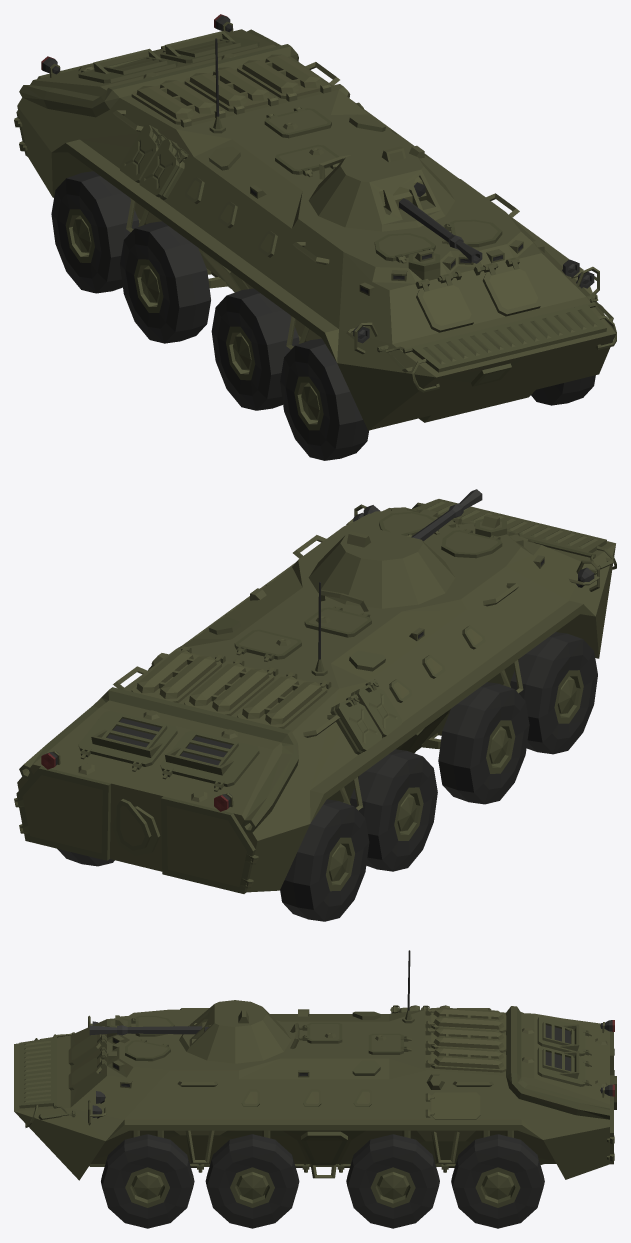
File: btr.glb
3 renders of one model, top to bottom at view 1: azimuth 30°, elevation 25°; view 2: azimuth 150°, elevation 25°; view 3: azimuth 270°, elevation 25°, orthographic. The views are drawn at different scales.
Visible parts, largest first — view 1: btr70_body_0, btr70_wheels_2, btr70_hatches_3, btr70_turret_1, btr70_fuelcan_4; view 2: btr70_body_0, btr70_wheels_2, btr70_hatches_3, btr70_turret_1, btr70_fuelcan_4; view 3: btr70_body_0, btr70_wheels_2, btr70_turret_1, btr70_hatches_3.
Boxes of the visible parts, x1=… form: btr70_body_0: x1=17, y1=14, x2=616, y2=430; btr70_wheels_2: x1=51, y1=171, x2=595, y2=460; btr70_hatches_3: x1=14, y1=45, x2=543, y2=332; btr70_turret_1: x1=308, y1=146, x2=482, y2=263; btr70_fuelcan_4: x1=120, y1=125, x2=188, y2=199; btr70_body_0: x1=17, y1=499, x2=616, y2=892; btr70_wheels_2: x1=57, y1=632, x2=597, y2=921; btr70_hatches_3: x1=14, y1=508, x2=533, y2=893; btr70_turret_1: x1=308, y1=489, x2=482, y2=608; btr70_fuelcan_4: x1=330, y1=679, x2=401, y2=754; btr70_body_0: x1=14, y1=950, x2=616, y2=1180; btr70_wheels_2: x1=101, y1=1134, x2=544, y2=1228; btr70_turret_1: x1=89, y1=1000, x2=290, y2=1063; btr70_hatches_3: x1=68, y1=1015, x2=614, y2=1164.
Bounding box in the file's own units: 2.75 × 2.75 × 7.1.
Materials: 1 (1 with a texture image).
